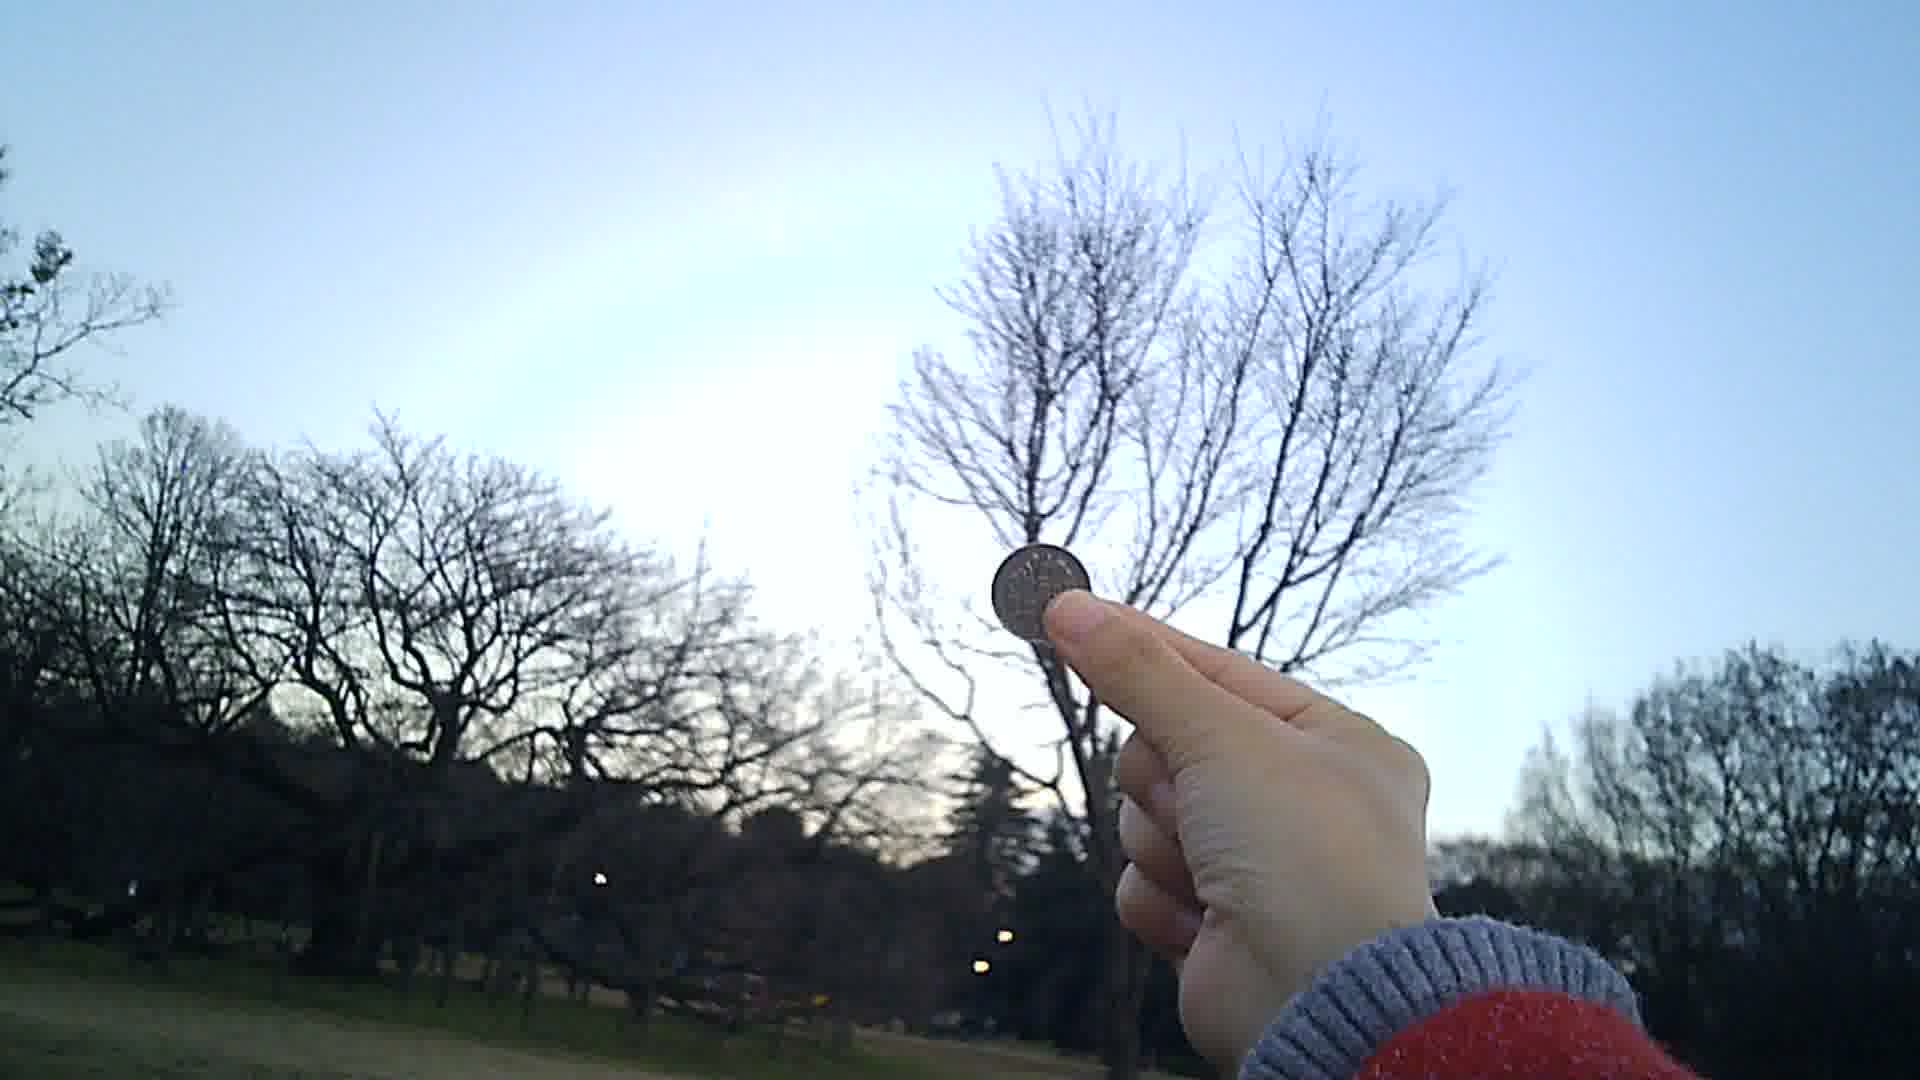100 Yen: (982, 531, 1098, 644)
